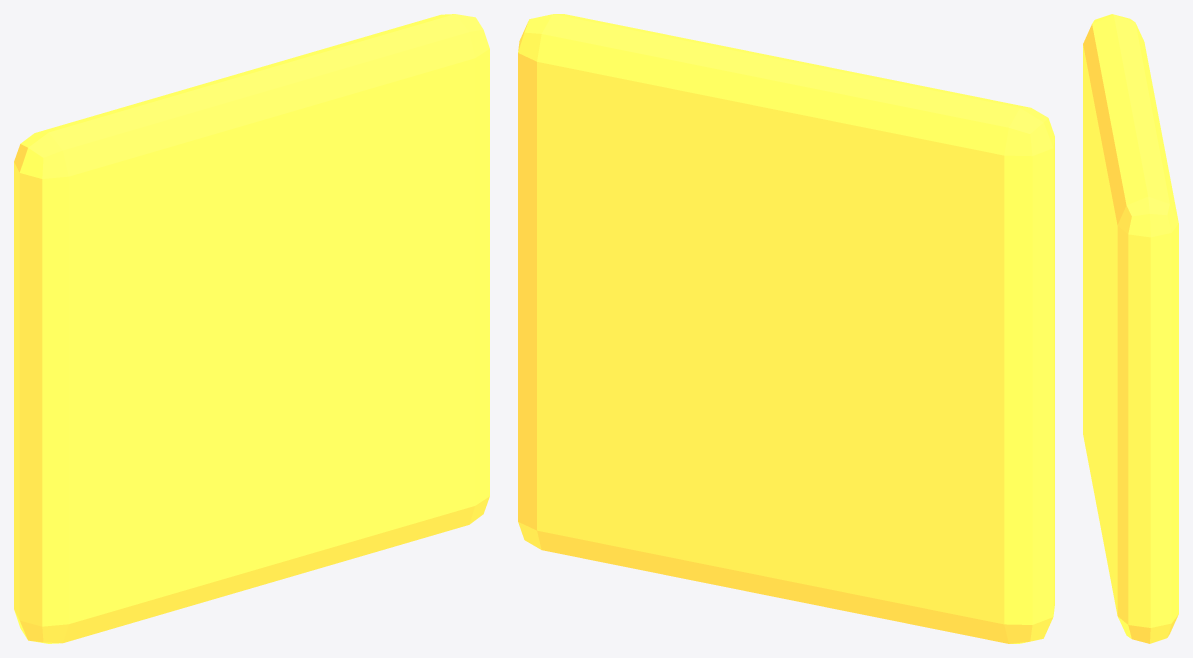
File: Veteran_MissionSticker_02.glb
3 renders of one model, left to right at view 1: azimuth 30°, elevation 25°; view 2: azimuth 150°, elevation 25°; view 3: azimuth 270°, elevation 25°, orthographic. The views are drawn at different scales.
Parts seen in each view (by area): view 1: Veteran_MissionSticker_02; view 2: Veteran_MissionSticker_02; view 3: Veteran_MissionSticker_02.
Boxes of the visible parts, x1,y1,x2,y2 form: Veteran_MissionSticker_02: (14, 14, 489, 643); Veteran_MissionSticker_02: (518, 14, 1054, 643); Veteran_MissionSticker_02: (1083, 14, 1178, 643).
Size of the model in its own units: 0.1595 by 0.16 by 0.0311.
